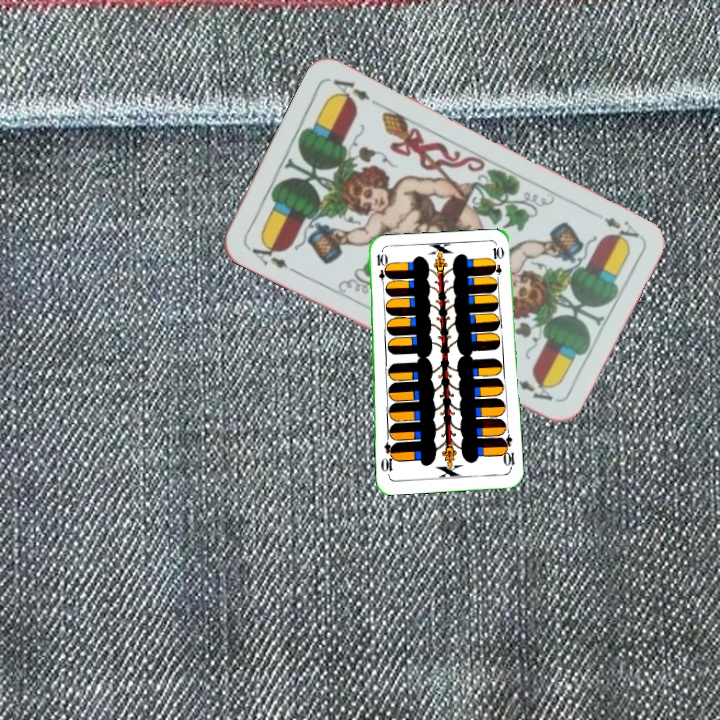E10: (498, 432, 518, 472), (373, 250, 388, 290)
EA: (587, 207, 642, 247), (243, 236, 291, 272)
